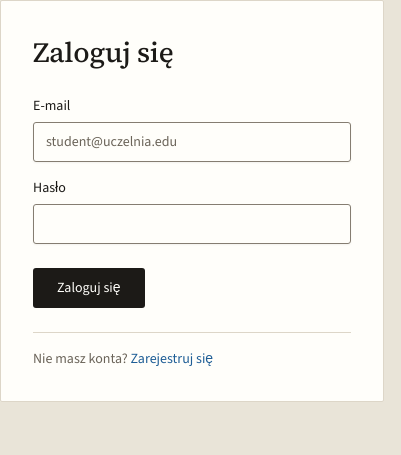
LoginCard › shows validation errors when required fields are missing
Step 1. Click the button "Zaloguj się" → (89, 288), box [33,268,145,308]
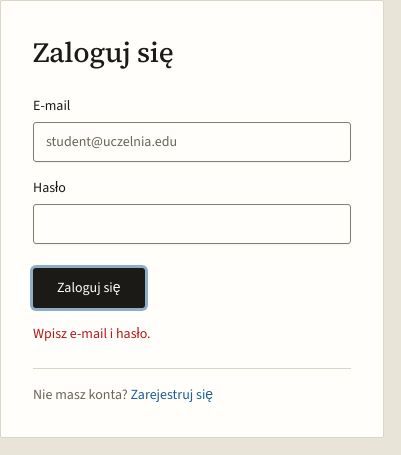
Expected: the text "Wpisz e-mail i hasło." is shown, [33,324,151,342]
